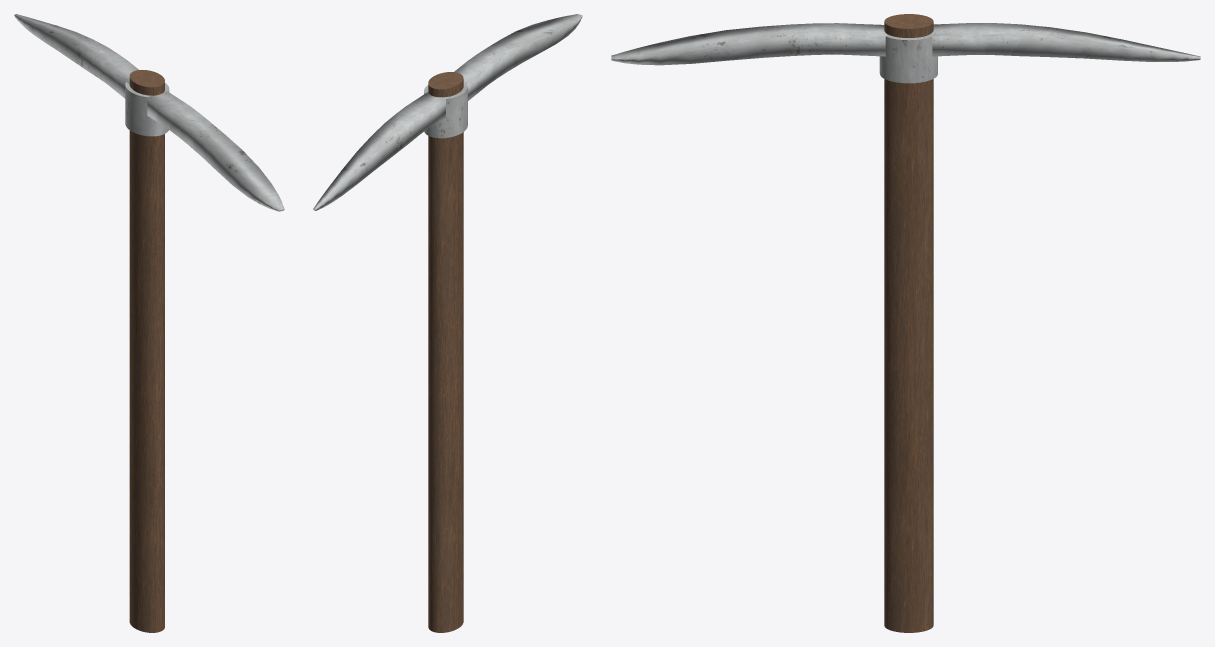
Rendered from steel_mining_pickaxe.glb.
3 renders of one model, left to right at view 1: azimuth 30°, elevation 25°; view 2: azimuth 150°, elevation 25°; view 3: azimuth 270°, elevation 25°, orthographic. The views are drawn at different scales.
Visible parts, largest first — view 1: Cylinder.001_1, Cube.001_3, Cube_2, Cylinder_0; view 2: Cylinder.001_1, Cube_2, Cube.001_3, Cylinder_0; view 3: Cylinder.001_1, Cube.001_3, Cube_2, Cylinder_0.
Boxes of the visible parts, x1=… form: Cylinder.001_1: x1=129, y1=70, x2=164, y2=632; Cube.001_3: x1=147, y1=91, x2=284, y2=211; Cube_2: x1=14, y1=14, x2=138, y2=98; Cylinder_0: x1=125, y1=82, x2=169, y2=136; Cylinder.001_1: x1=428, y1=72, x2=463, y2=632; Cube_2: x1=313, y1=92, x2=448, y2=210; Cube.001_3: x1=454, y1=14, x2=582, y2=100; Cylinder_0: x1=424, y1=83, x2=467, y2=138; Cylinder.001_1: x1=884, y1=14, x2=933, y2=632; Cube.001_3: x1=611, y1=23, x2=886, y2=65; Cube_2: x1=927, y1=23, x2=1200, y2=61; Cylinder_0: x1=879, y1=34, x2=937, y2=83.
Bounding box in the file's own units: 0.2403 × 3.53 × 3.12.
Materials: 2 (2 with a texture image).
